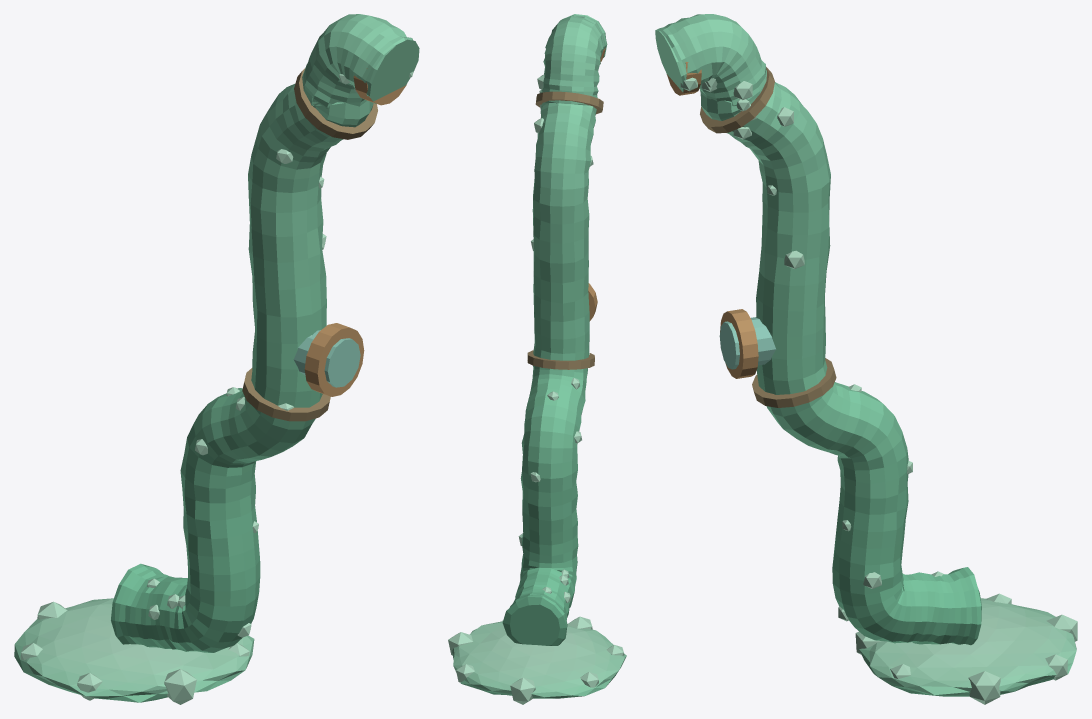
Rendered from goo_drop_tube_goo_3.fbx.
The picture shows the model from 3 angles, left to right: view 1: azimuth 30°, elevation 25°; view 2: azimuth 150°, elevation 25°; view 3: azimuth 270°, elevation 25°; orthographic projection. The views are drawn at different scales.
Visible parts, largest first — view 1: goo_drop_tube_goo_3; view 2: goo_drop_tube_goo_3; view 3: goo_drop_tube_goo_3.
Part boxes in pixels (<box>): goo_drop_tube_goo_3: <box>14,14,419,704</box>; goo_drop_tube_goo_3: <box>448,14,626,704</box>; goo_drop_tube_goo_3: <box>655,14,1077,704</box>.
Bounding box in the file's own units: 12.59 × 37.83 × 20.98.
